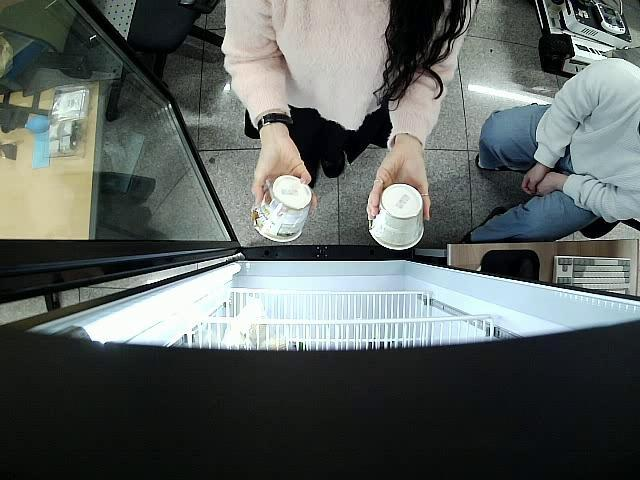04_chapagetti_S: (247, 175, 312, 242), (368, 184, 425, 250)
